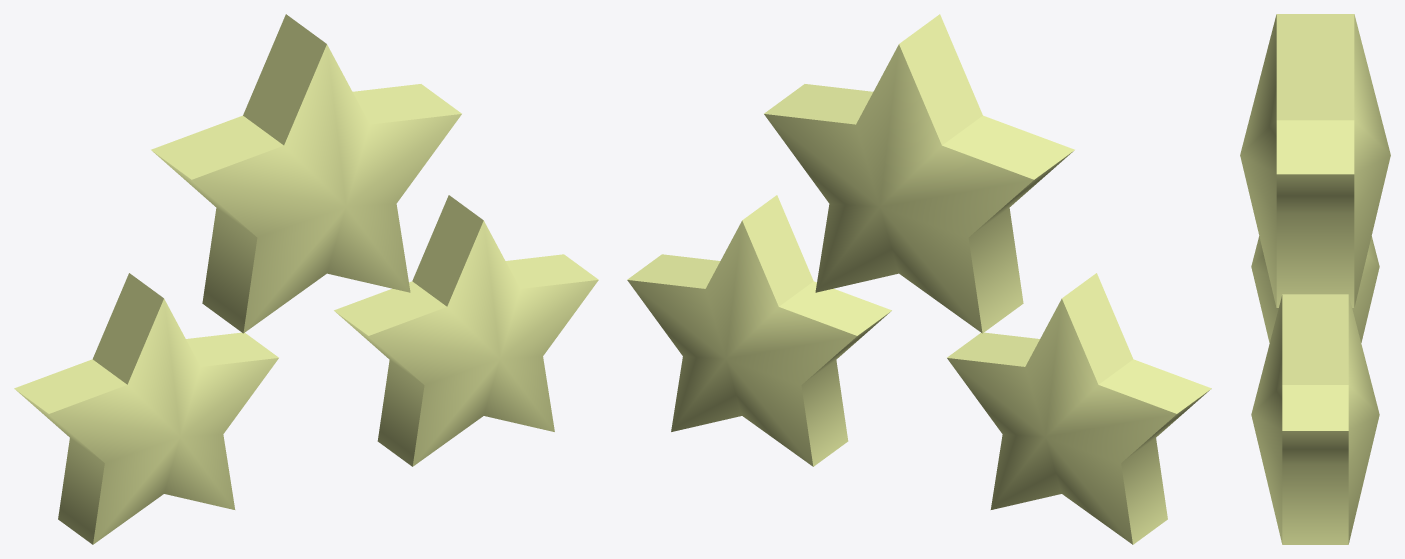
Rendered from EstrellasLuz.obj.
The picture shows the model from 3 angles, left to right: view 1: azimuth 30°, elevation 25°; view 2: azimuth 150°, elevation 25°; view 3: azimuth 270°, elevation 25°; orthographic projection. The views are drawn at different scales.
Visible parts, largest first — view 1: polySurface1; view 2: polySurface1; view 3: polySurface1.
Part boxes in pixels (left/top/right/bottom): polySurface1: left=14, top=14, right=598, bottom=544; polySurface1: left=627, top=14, right=1211, bottom=544; polySurface1: left=1240, top=14, right=1390, bottom=544.
Bounding box in the file's own units: 0.7949 × 0.6171 × 0.199.
1 material, 1 textured.
